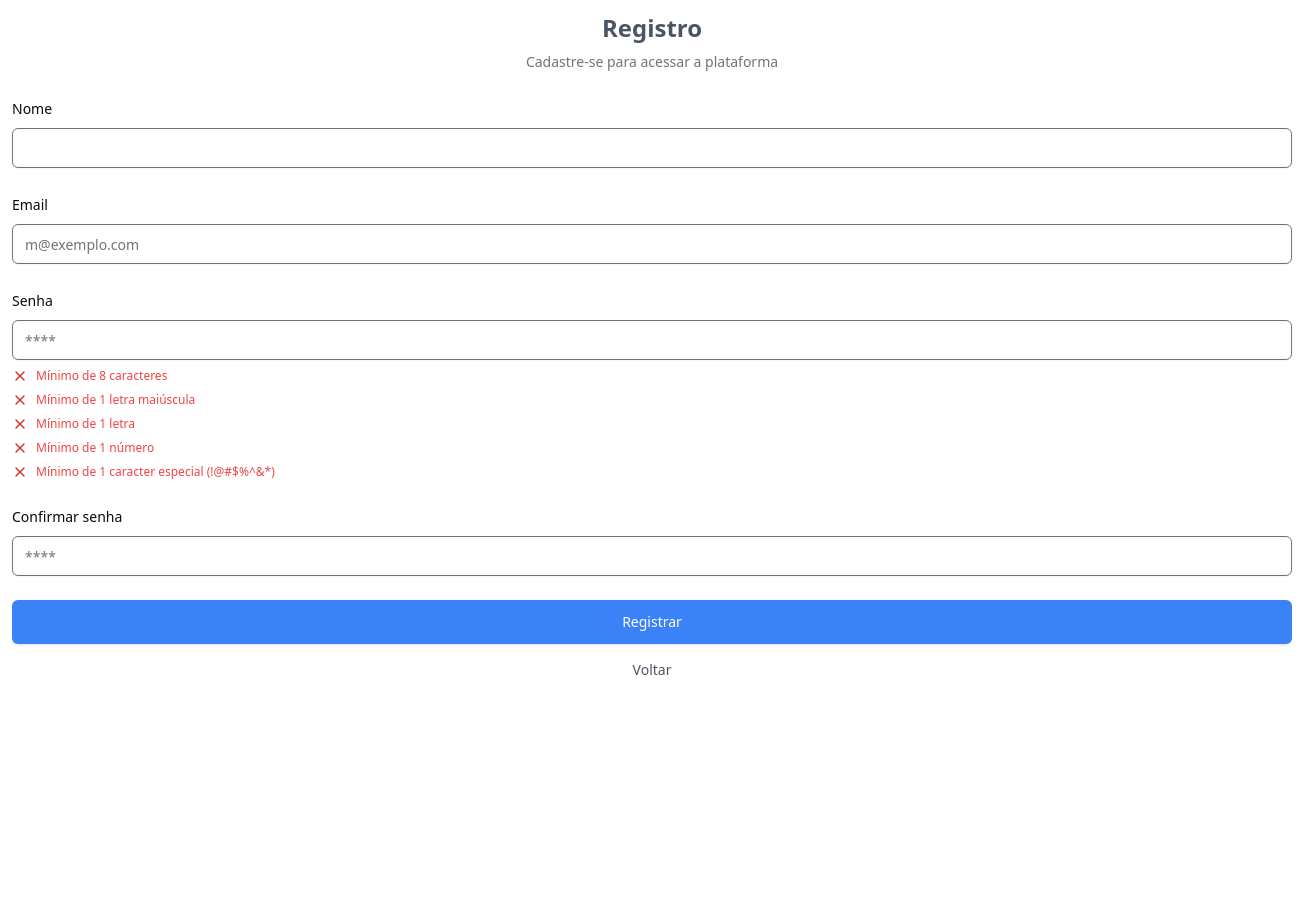
Test: <RegisterForm /> › should disable submit button if password is invalid or not equal to confirm password
Type "123456" into the field labelled "Senha" at (652, 340), box [12,320,1292,360]
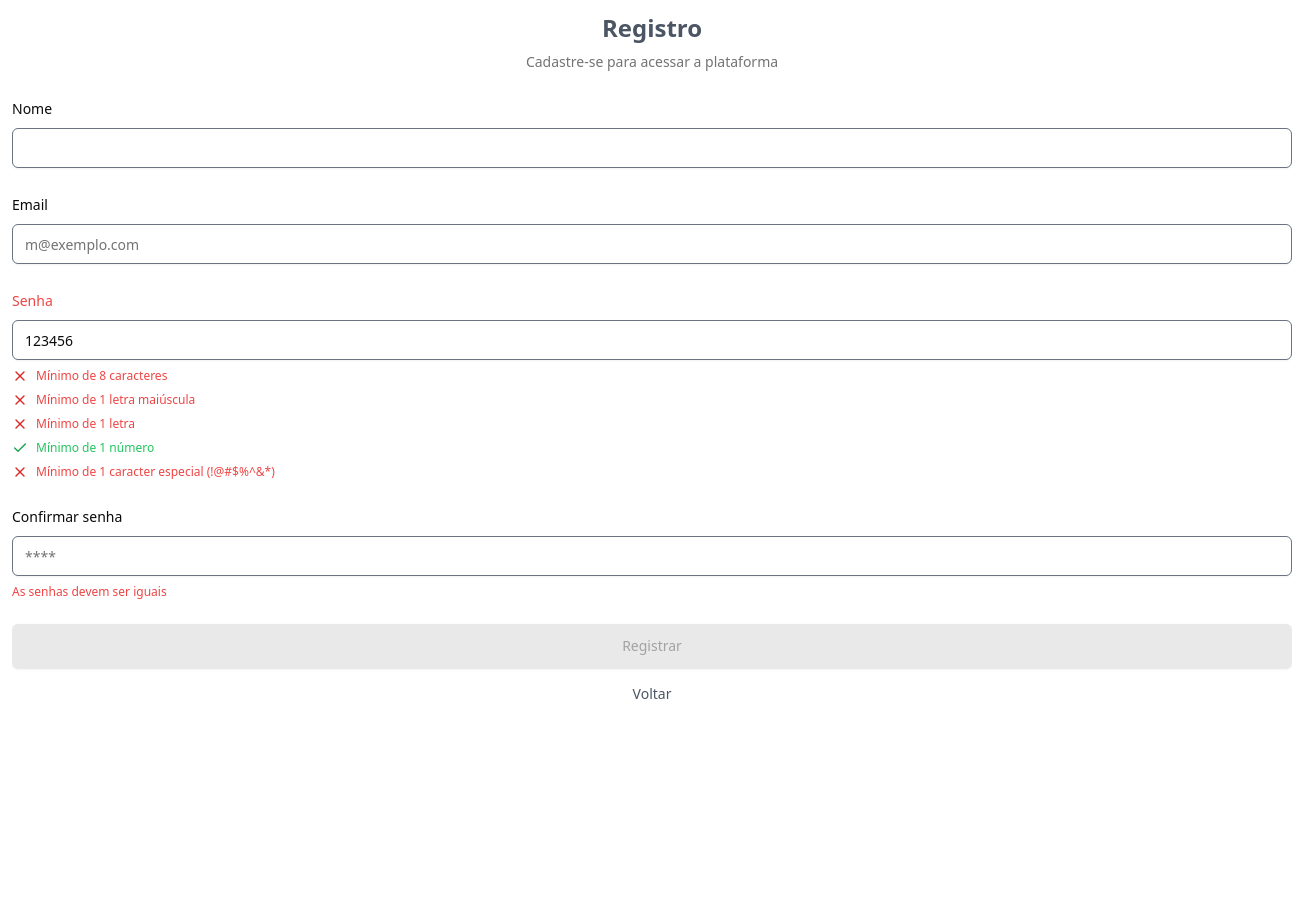
Type "123" into the field labelled "Confirmar senha" at (652, 556), box [12,536,1292,576]
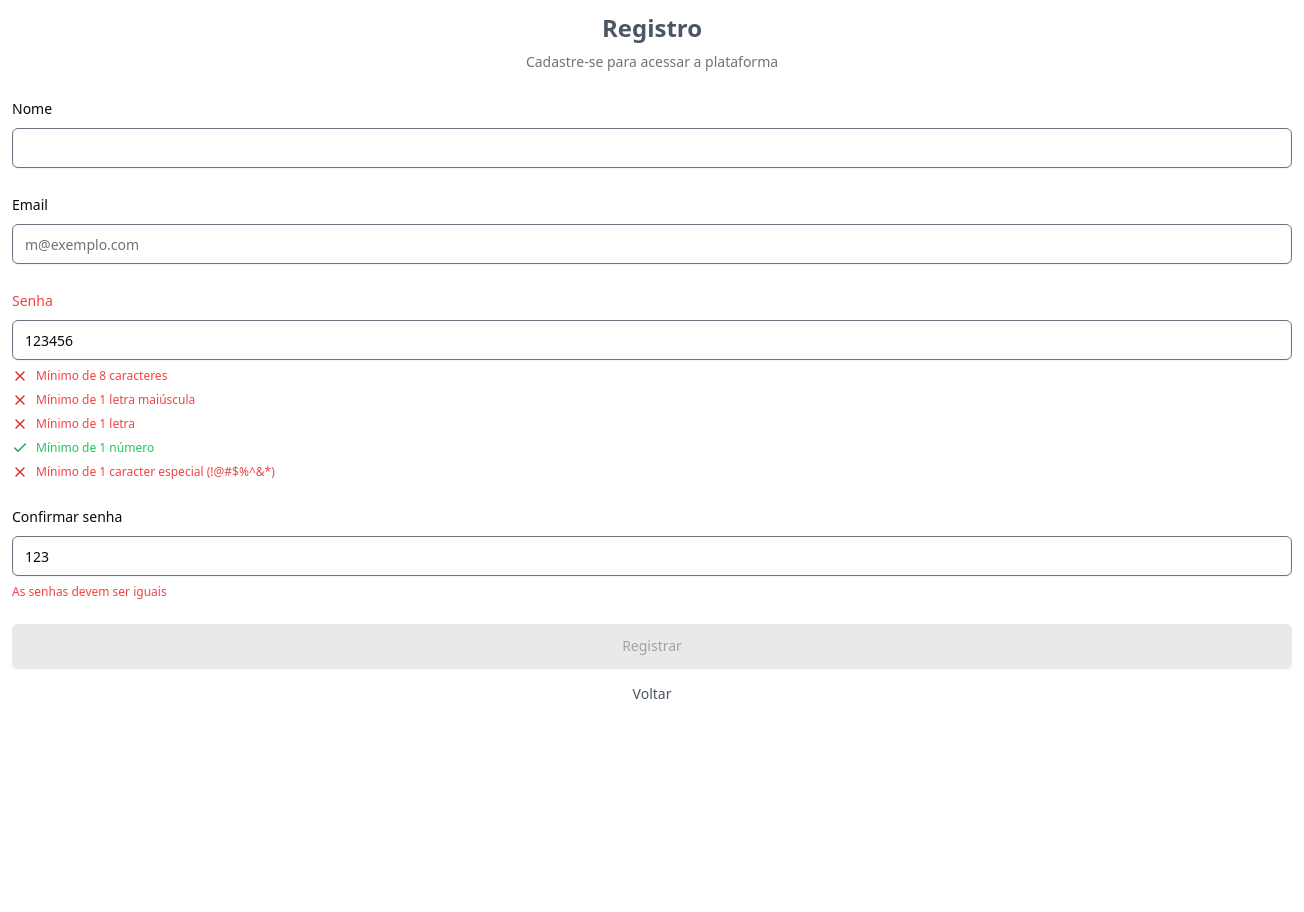
Result: the button "Registrar" is disabled at [12,624,1292,668]
Type "Test" into the field labelled "Senha" at (652, 340), box [12,320,1292,360]
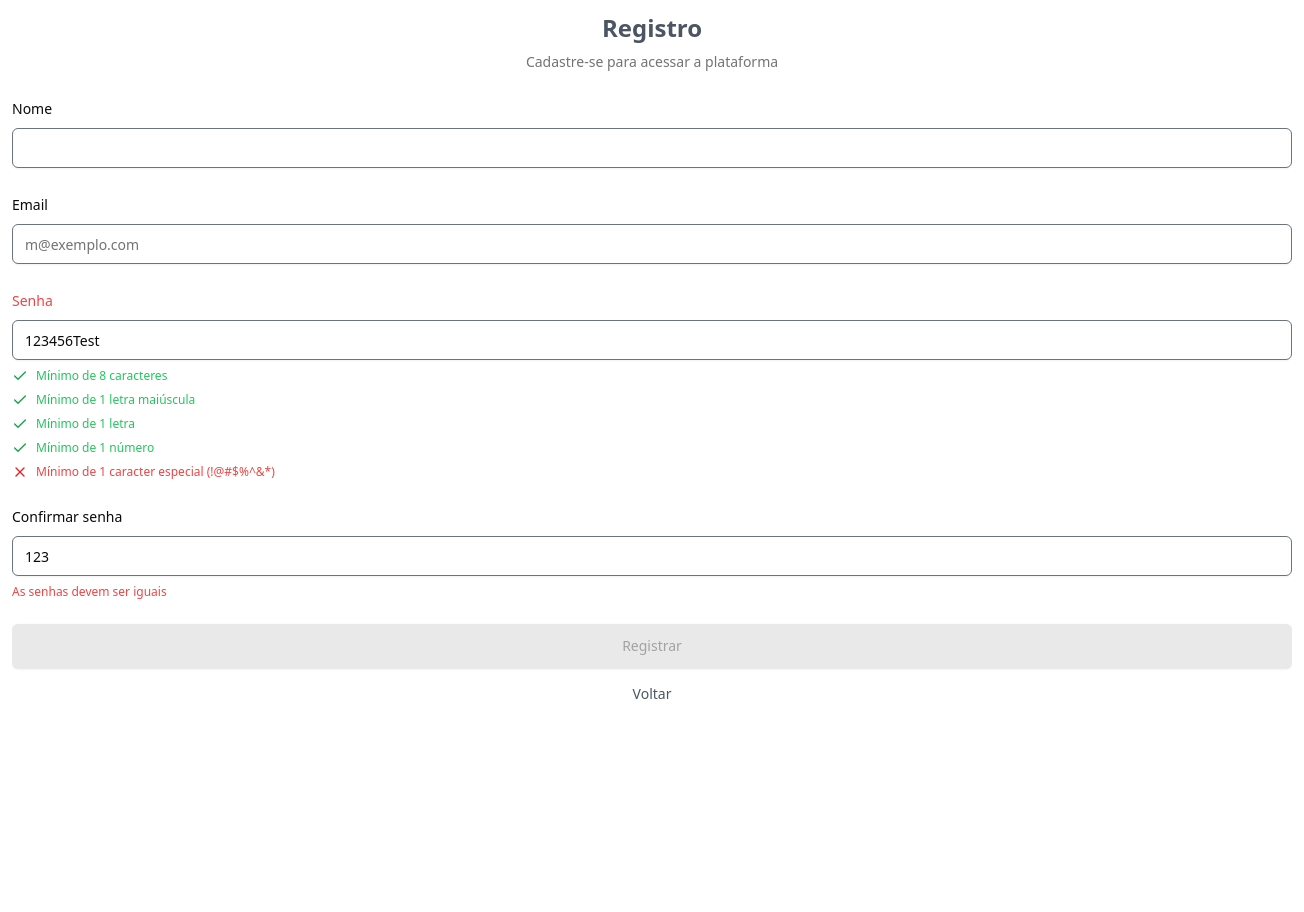
Type "456Test" into the field labelled "Confirmar senha" at (652, 556), box [12,536,1292,576]
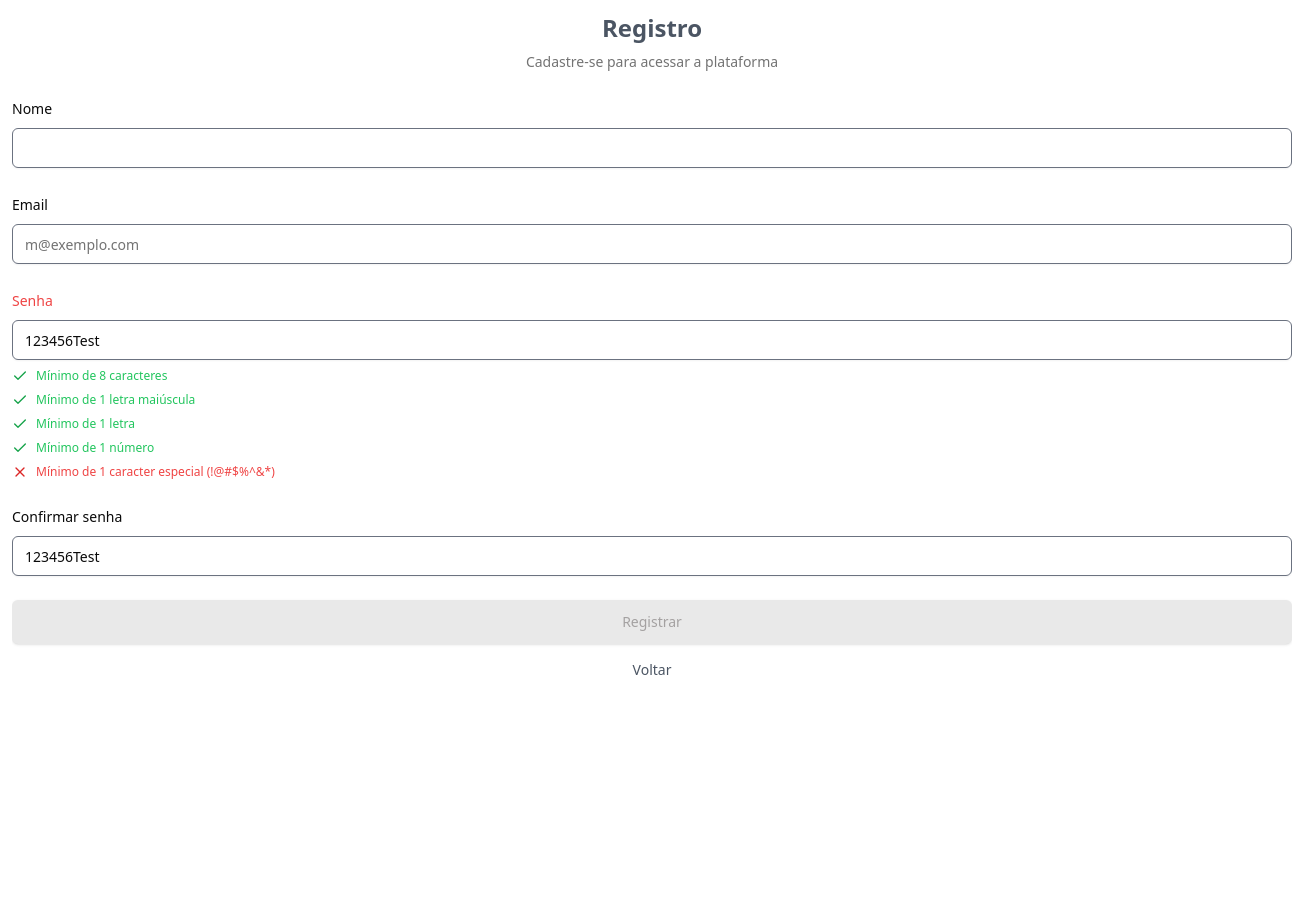
Result: the button "Registrar" is disabled at [12,600,1292,644]
Type "!" into the field labelled "Senha" at (652, 340), box [12,320,1292,360]
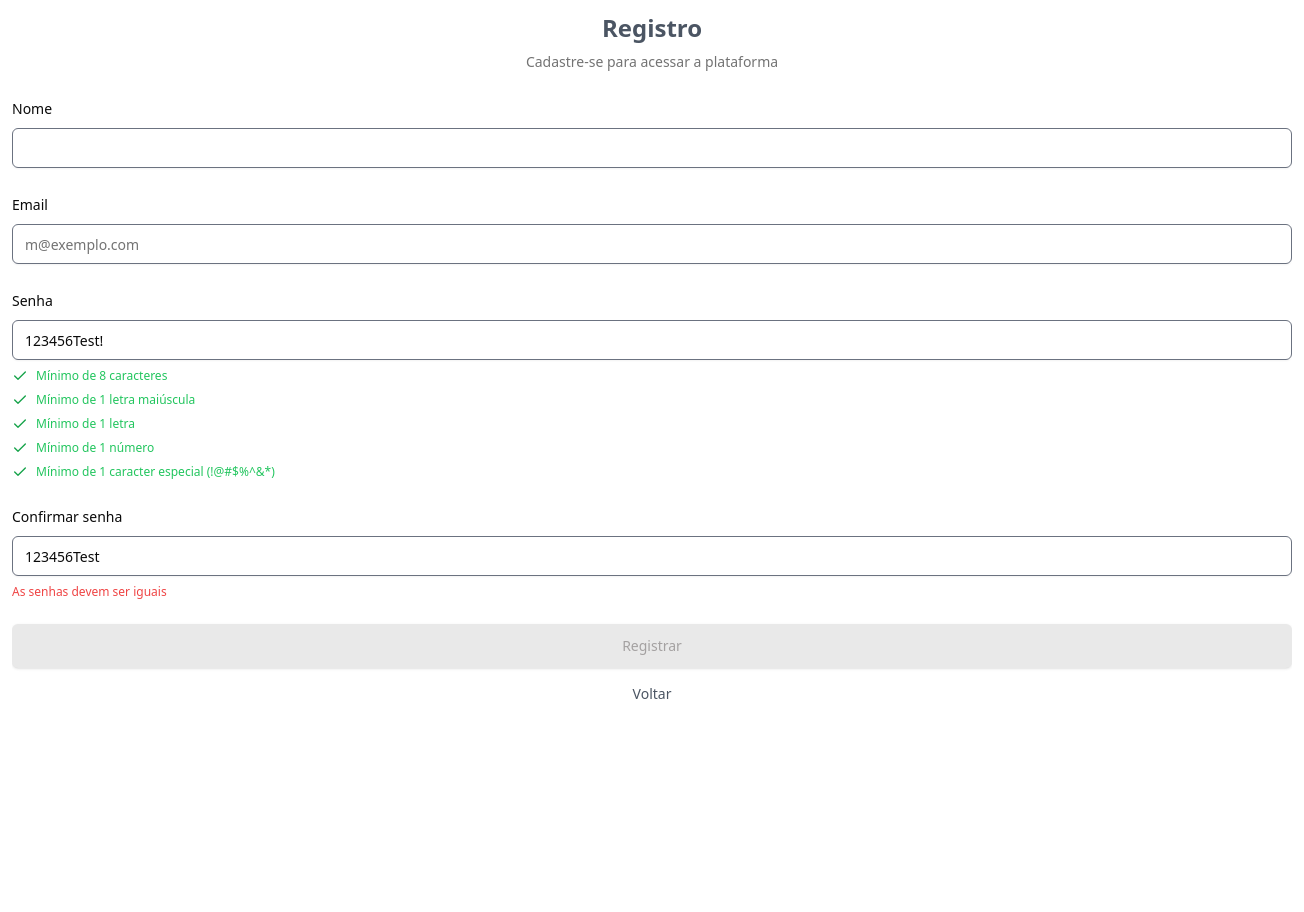
Type "!" into the field labelled "Confirmar senha" at (652, 556), box [12,536,1292,576]
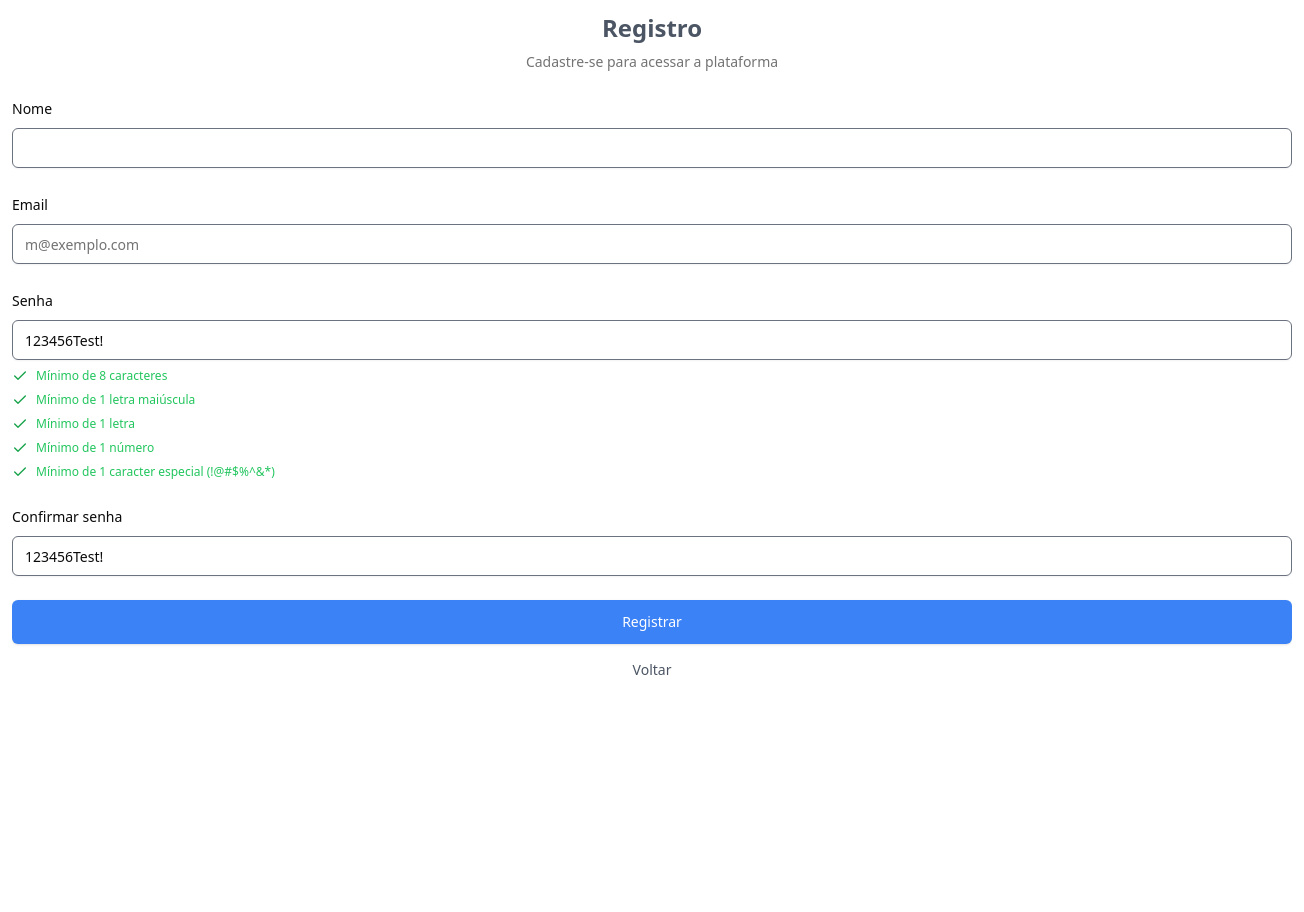
Result: the button "Registrar" is enabled at [12,600,1292,644]
